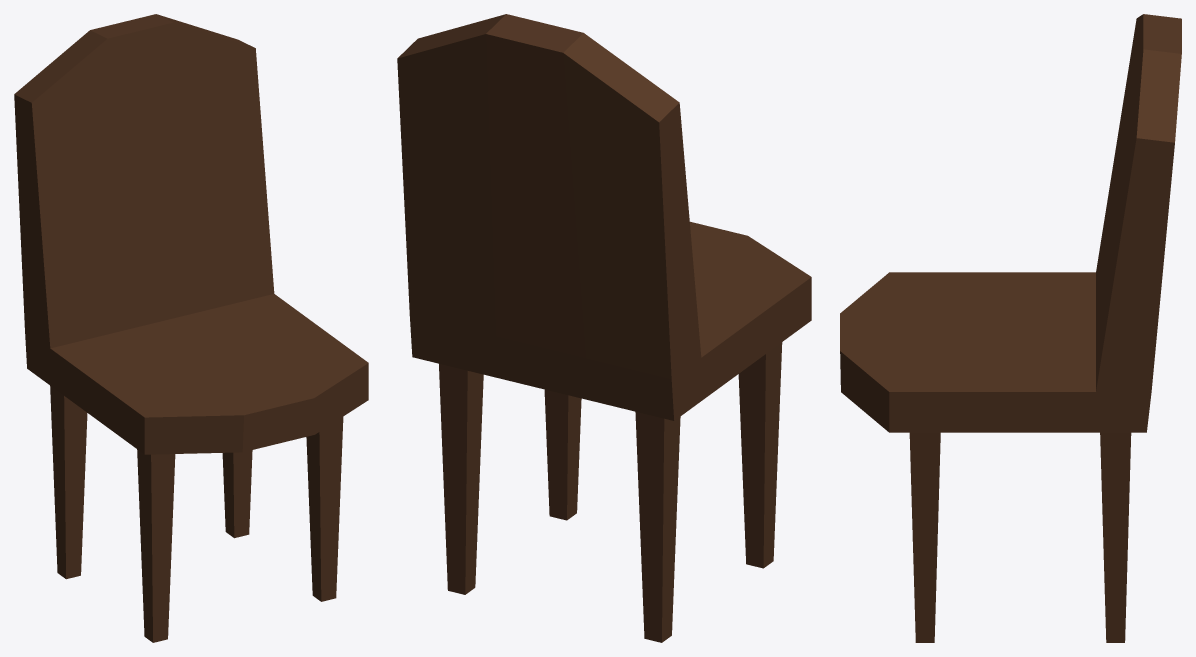
Rendered from Standart Chair.fbx.
3 renders of one model, left to right at view 1: azimuth 30°, elevation 25°; view 2: azimuth 150°, elevation 25°; view 3: azimuth 270°, elevation 25°, orthographic. The views are drawn at different scales.
Visible parts, largest first — view 1: Standart Chair; view 2: Standart Chair; view 3: Standart Chair.
Part boxes in pixels (<box>): Standart Chair: <box>14,14,368,642</box>; Standart Chair: <box>397,14,811,642</box>; Standart Chair: <box>840,14,1181,642</box>.
Size of the model in its own units: 0.5273 by 1.16 by 0.6365.
